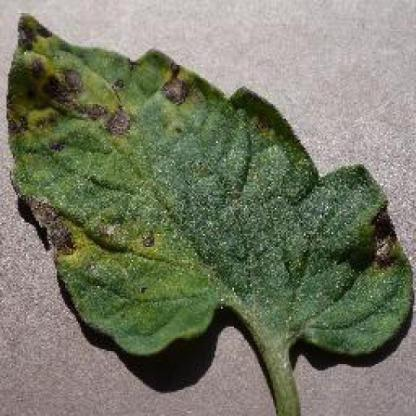Tomato_Blight: (15, 12, 409, 369)
